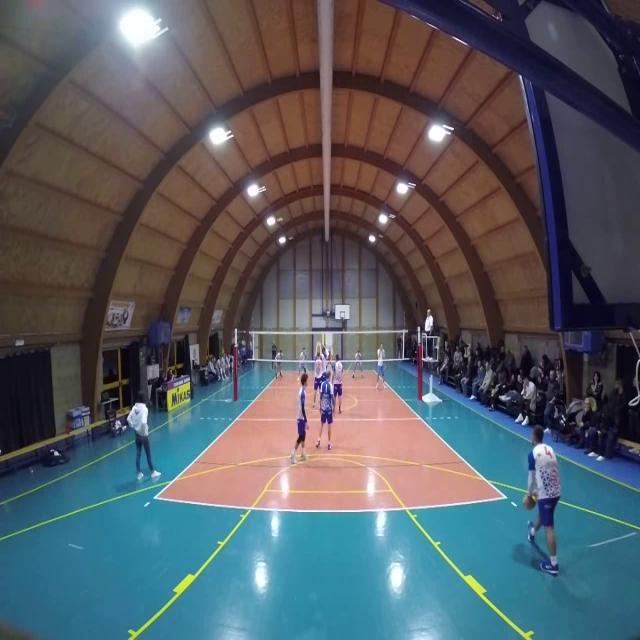Volleyball: (523, 489, 538, 512)
